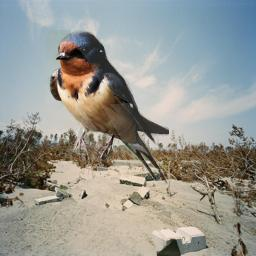Swallow: (46, 30, 169, 185)
